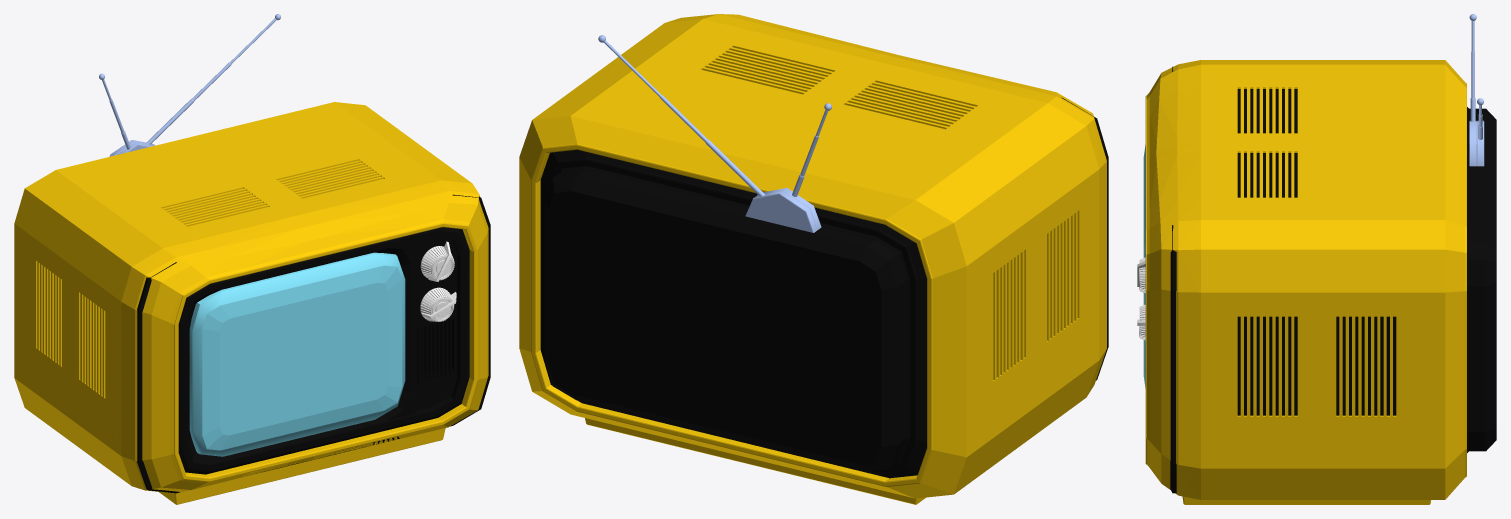
The model's file is retro_tv.FBX.
3 views of the same model, side by side, from view 1: azimuth 30°, elevation 25°; view 2: azimuth 150°, elevation 25°; view 3: azimuth 270°, elevation 25° (orthographic). The views are drawn at different scales.
Visible parts, largest first — view 1: tv_body, screen, tv_inner_body, bottom, cap, switcher_02, switcher_01_01; view 2: tv_body, tv_inner_body, bottom, antenna_base_02; view 3: tv_body, tv_inner_body, bottom, screen.
Boxes of the visible parts, x1,y1,x2,y2 form: tv_body: [14, 102, 488, 493]; screen: [189, 252, 405, 456]; tv_inner_body: [137, 194, 490, 493]; bottom: [159, 428, 445, 504]; cap: [416, 319, 453, 383]; switcher_02: [420, 287, 454, 321]; switcher_01_01: [420, 246, 454, 280]; tv_body: [519, 14, 1106, 498]; tv_inner_body: [540, 97, 1108, 478]; bottom: [585, 418, 925, 504]; antenna_base_02: [745, 191, 817, 232]; tv_body: [1145, 60, 1466, 499]; tv_inner_body: [1170, 66, 1496, 493]; bottom: [1182, 496, 1430, 504]; screen: [1143, 145, 1145, 388].
Bounding box in the file's own units: 400 × 359 × 302.
